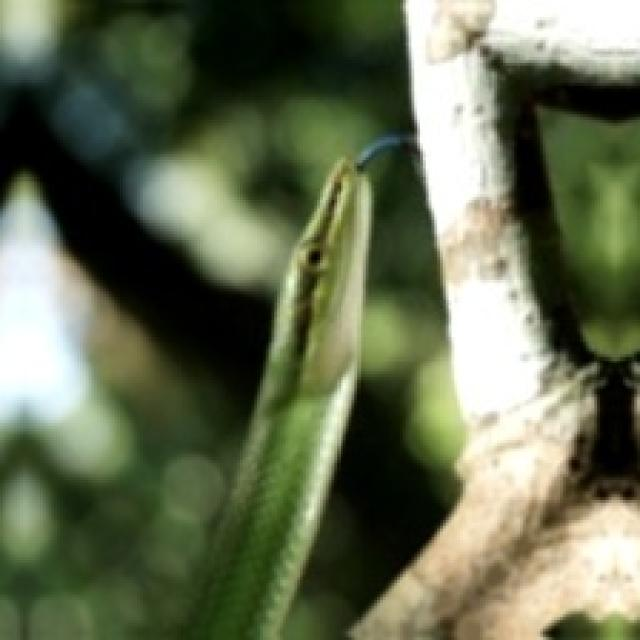red-tailed green ratsnake: (186, 134, 409, 637)
